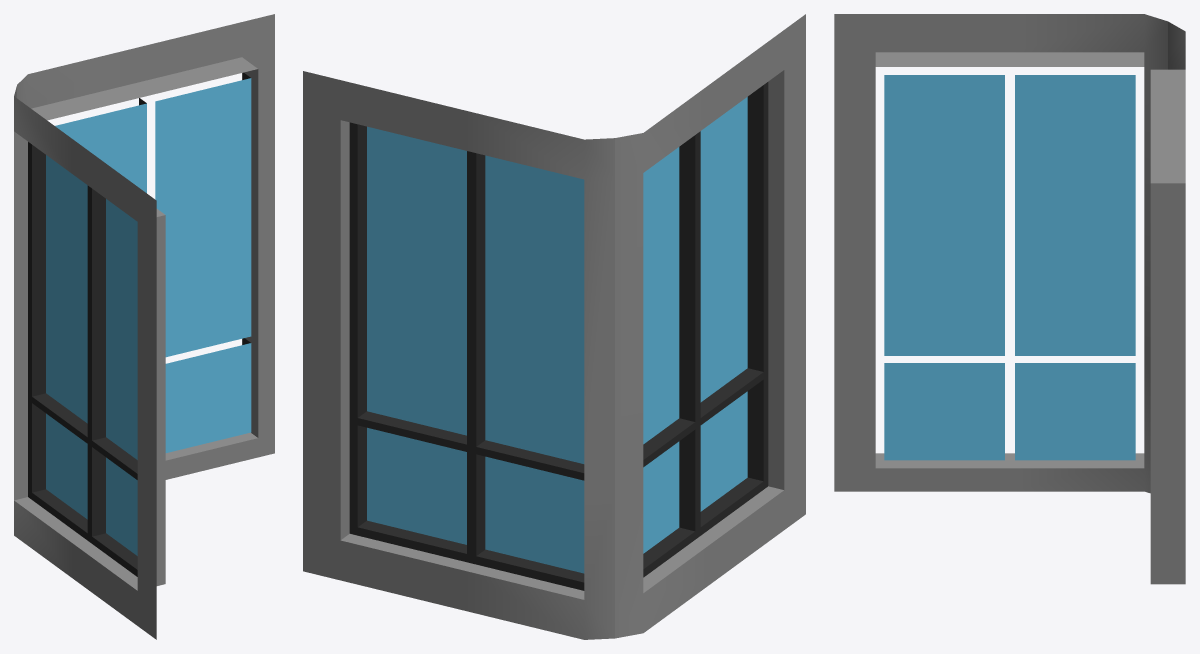
File: FlatWallWindowBigCorner.FBX
The picture shows the model from 3 angles, left to right: view 1: azimuth 30°, elevation 25°; view 2: azimuth 150°, elevation 25°; view 3: azimuth 270°, elevation 25°; orthographic projection. The views are drawn at different scales.
Visible parts, largest first — view 1: FlatWallWindowBigCorner; view 2: FlatWallWindowBigCorner; view 3: FlatWallWindowBigCorner.
Boxes of the visible parts, left/top/right/bottom form: FlatWallWindowBigCorner: left=14, top=14, right=274, bottom=639; FlatWallWindowBigCorner: left=303, top=14, right=805, bottom=639; FlatWallWindowBigCorner: left=834, top=14, right=1185, bottom=584.
Bounding box in the file's own units: 78.74 × 118 × 78.74.
